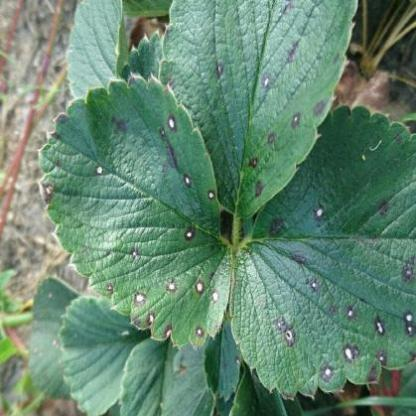Strawberry_Leaf_Spot: (37, 72, 233, 350), (230, 104, 414, 400), (157, 0, 360, 218), (202, 294, 242, 402)
